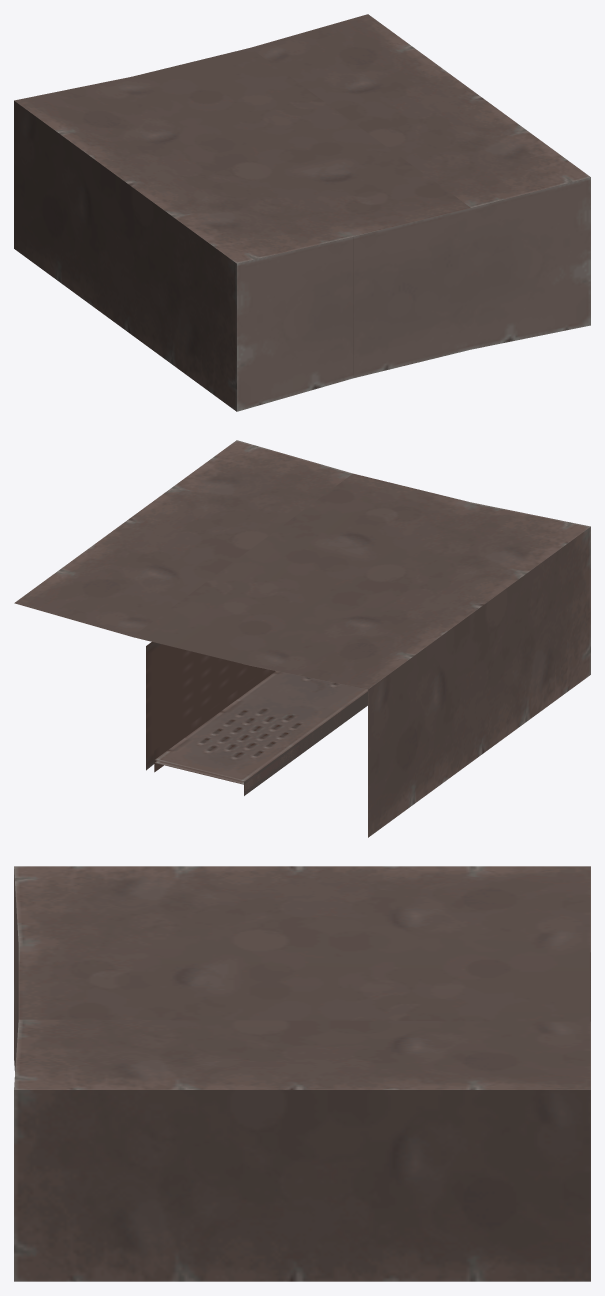
The model's file is locker_1.glb.
3 views of the same model, one above another, from view 1: azimuth 30°, elevation 25°; view 2: azimuth 150°, elevation 25°; view 3: azimuth 270°, elevation 25° (orthographic). The views are drawn at different scales.
Parts seen in each view (by area): view 1: gremlin.locker_1-MeshNodes["lockers_1"]; view 2: gremlin.locker_1-MeshNodes["lockers_1"], gremlin.locker_door_set-MeshSets[door_1].Mesh[0], gremlin.locker_door_set-MeshSets[door_3].Mesh[0], gremlin.locker_door_set-MeshSets[door_2].Mesh[0]; view 3: gremlin.locker_1-MeshNodes["lockers_1"].
Part boxes in pixels (box(x1,y1,x2,y2)): gremlin.locker_1-MeshNodes["lockers_1"]: box(14, 14, 590, 411); gremlin.locker_1-MeshNodes["lockers_1"]: box(14, 440, 590, 837); gremlin.locker_door_set-MeshSets[door_1].Mesh[0]: box(155, 671, 367, 795); gremlin.locker_door_set-MeshSets[door_3].Mesh[0]: box(187, 671, 367, 792); gremlin.locker_door_set-MeshSets[door_2].Mesh[0]: box(155, 717, 338, 791); gremlin.locker_1-MeshNodes["lockers_1"]: box(14, 866, 590, 1281).
Size of the model in its own units: 2 by 0.8 by 2.18.
1 material, 1 textured.
